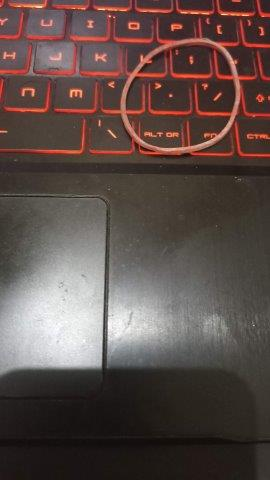karet: (121, 38, 240, 154)
